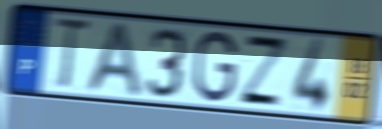3: (145, 26, 189, 100)
4: (290, 35, 332, 116)
A: (82, 19, 145, 100)
G: (191, 29, 240, 105)
T: (51, 16, 93, 92)
Z: (237, 32, 291, 110)
